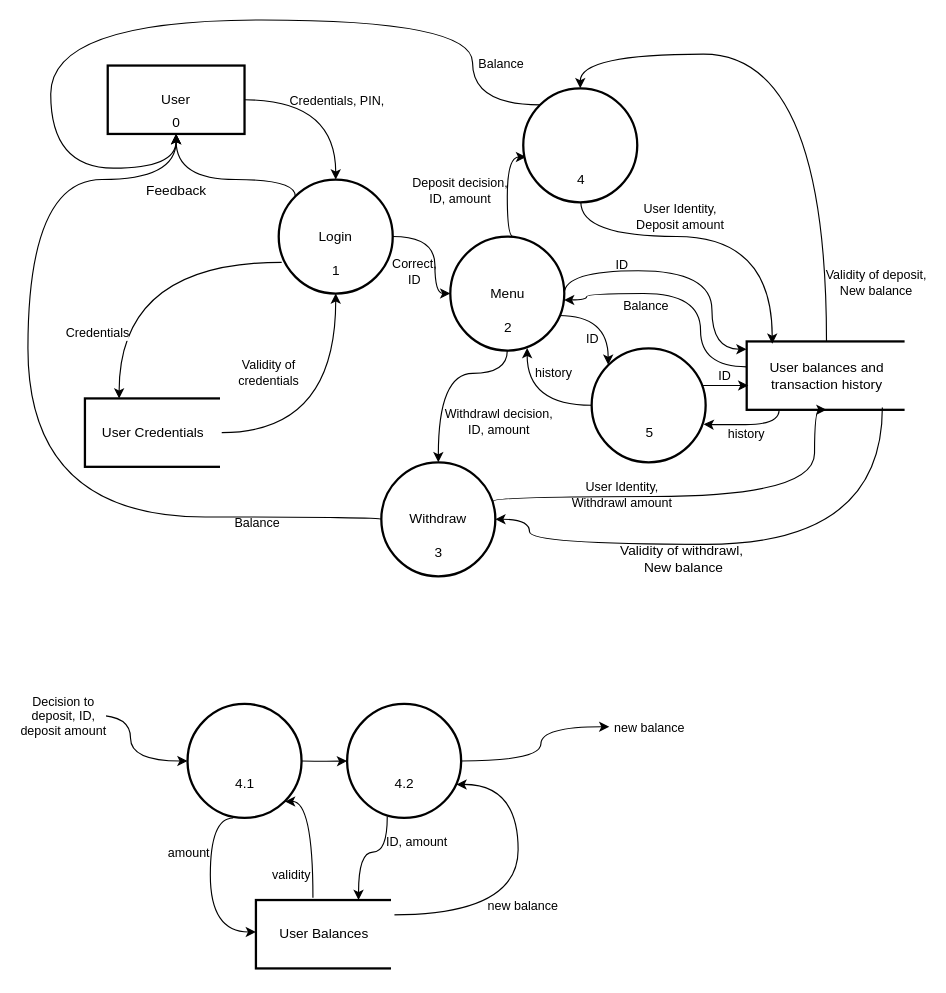
Image size: 946x993. Some labels were removed from this diagram. The box of each missing label's shape, as (x1, y1, x2, y2) in pixels:
Check history: (590, 347, 706, 463)
Check validity: (186, 702, 302, 819)
Deposit: (522, 87, 638, 203)
Make deposit: (345, 702, 462, 819)
